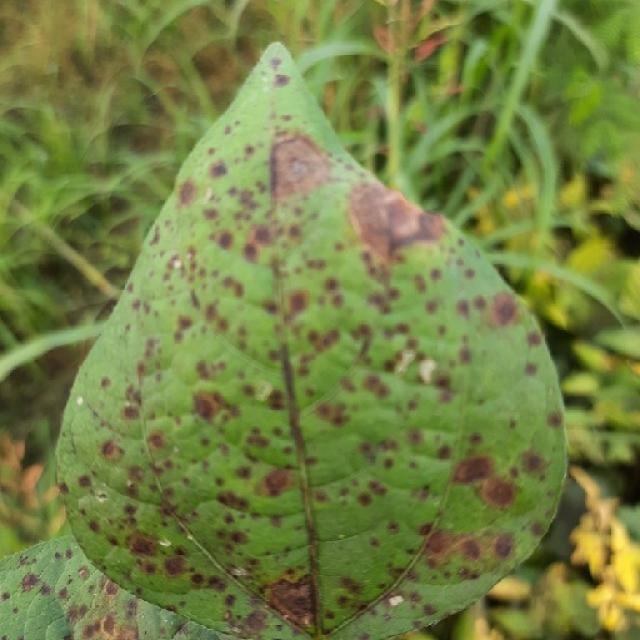Anthracnose: (347, 179, 445, 271), (270, 131, 335, 205), (424, 527, 500, 570), (263, 575, 317, 626), (79, 606, 125, 640), (244, 222, 282, 260), (453, 455, 494, 486), (481, 476, 516, 509), (194, 392, 235, 420), (261, 467, 295, 497), (489, 293, 519, 326), (191, 391, 222, 421), (423, 530, 456, 558), (314, 400, 348, 427), (361, 373, 390, 400), (128, 533, 158, 558), (240, 609, 269, 634), (215, 490, 245, 511), (521, 450, 546, 475), (286, 289, 309, 315), (162, 555, 188, 577), (100, 438, 123, 462), (492, 534, 514, 559), (177, 180, 196, 206), (19, 572, 40, 593), (252, 225, 272, 247), (82, 619, 103, 639), (174, 315, 193, 337), (146, 431, 166, 451), (216, 230, 234, 251), (546, 410, 563, 429), (210, 161, 228, 178), (184, 247, 197, 268), (190, 288, 201, 310), (357, 492, 373, 507), (530, 521, 545, 537), (273, 73, 290, 86), (77, 474, 92, 488), (524, 361, 538, 376), (224, 594, 236, 608), (77, 566, 89, 579), (64, 548, 74, 559)
Blackgram: (0, 42, 565, 639)
